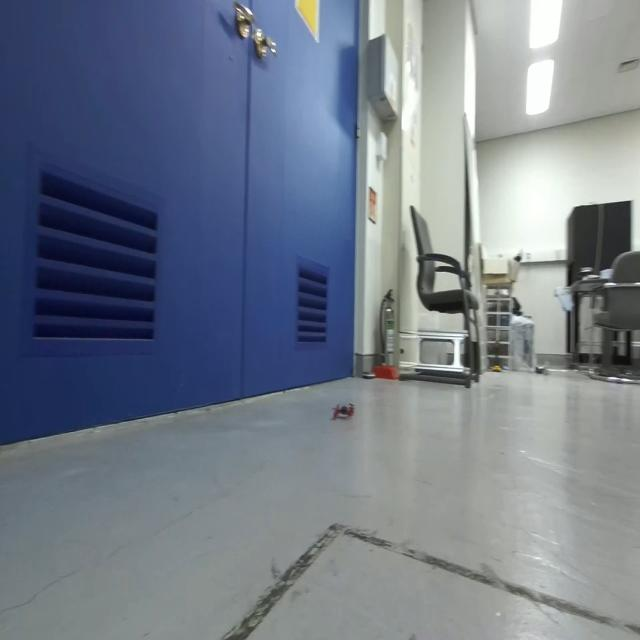crazyflie: (331, 397, 357, 427)
